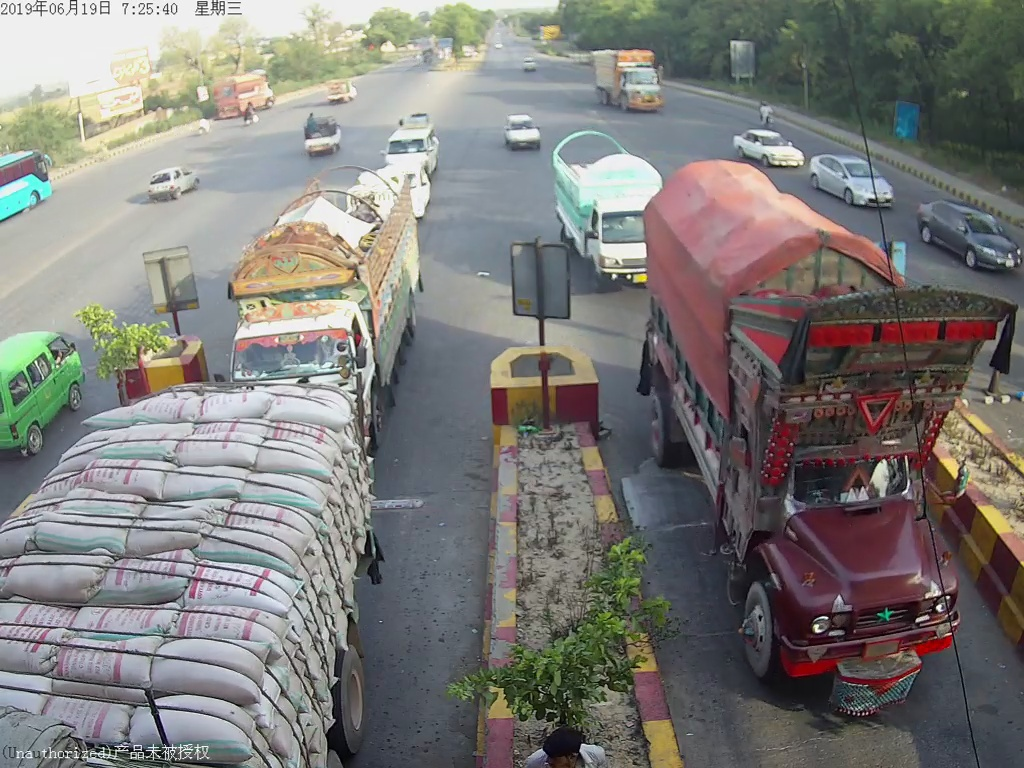Cat-2: (555, 148, 648, 278)
Cat-4: (655, 190, 984, 724), (226, 190, 431, 366)
